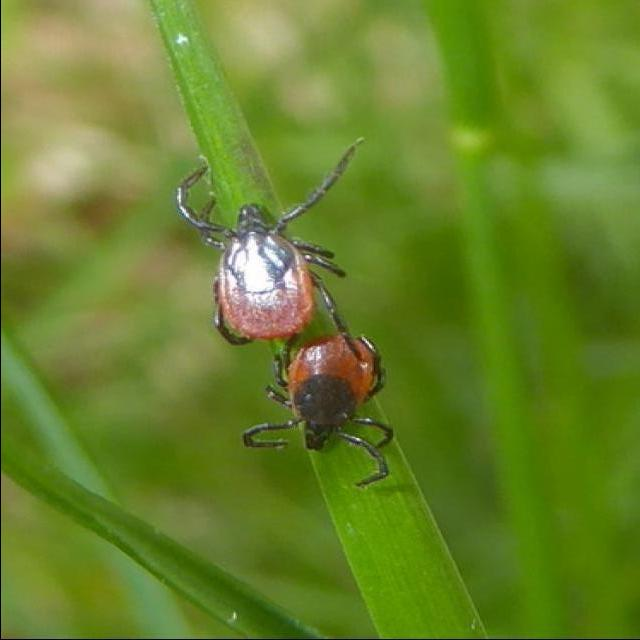Ixodes Ricinus-F: (175, 141, 363, 348), (240, 334, 394, 490)
